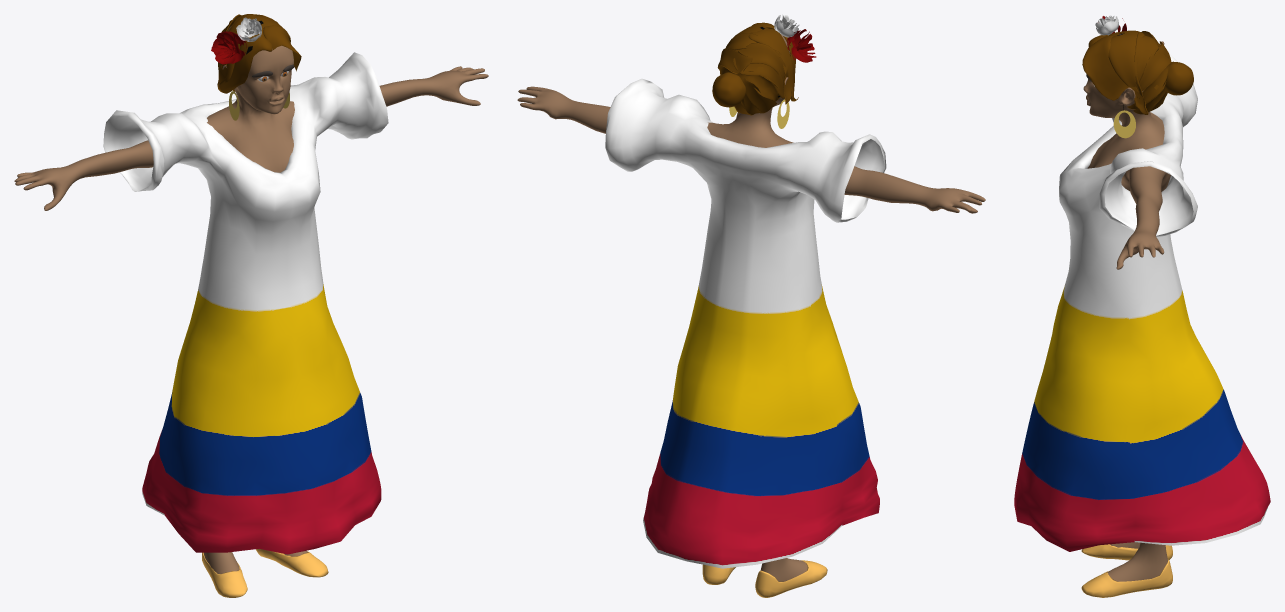
The model's file is Bailarina.fbx.
3 renders of one model, left to right at view 1: azimuth 30°, elevation 25°; view 2: azimuth 150°, elevation 25°; view 3: azimuth 270°, elevation 25°, orthographic. The views are drawn at different scales.
Parts seen in each view (by area): view 1: Extract5_7, editor_personaje, PM3D_Sphere3D1_2, Extract9_1; view 2: Extract5_7, editor_personaje, PM3D_Sphere3D1_2, Extract9_1; view 3: Extract5_7, editor_personaje, PM3D_Sphere3D1_2, Extract9_1, pCylinder3.
Boxes of the visible parts, bbox=[...] form: Extract5_7: bbox=[103, 52, 388, 554]; editor_personaje: bbox=[14, 26, 488, 573]; PM3D_Sphere3D1_2: bbox=[217, 14, 301, 93]; Extract9_1: bbox=[202, 549, 328, 597]; Extract5_7: bbox=[605, 78, 886, 568]; editor_personaje: bbox=[517, 34, 985, 582]; PM3D_Sphere3D1_2: bbox=[712, 22, 798, 115]; Extract9_1: bbox=[702, 560, 827, 597]; Extract5_7: bbox=[1014, 54, 1270, 551]; editor_personaje: bbox=[1083, 33, 1170, 597]; PM3D_Sphere3D1_2: bbox=[1082, 30, 1193, 114]; Extract9_1: bbox=[1081, 544, 1172, 597]; pCylinder3: bbox=[1113, 104, 1135, 138].
Size of the model in its own units: 12.45 by 14.38 by 6.06.
